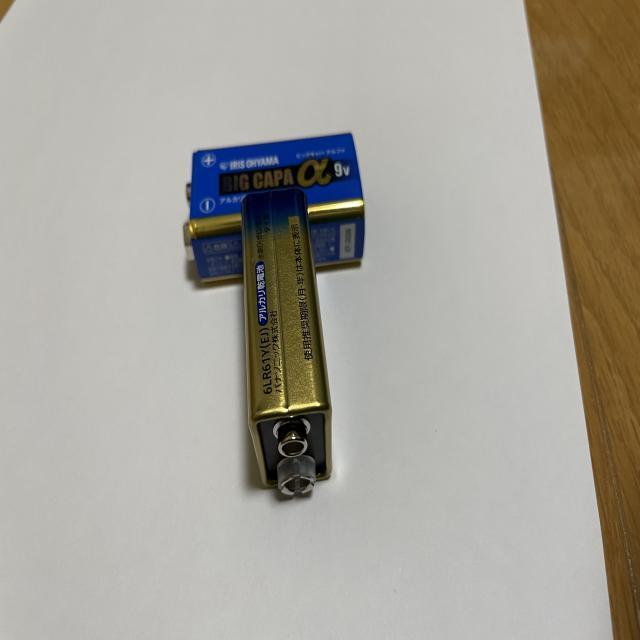9V: (240, 186, 334, 504), (183, 132, 367, 287)
